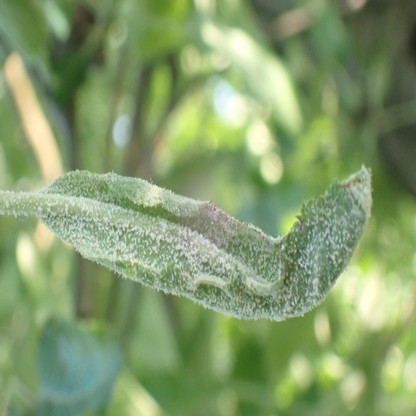powdery_mildew: (39, 165, 373, 322)
